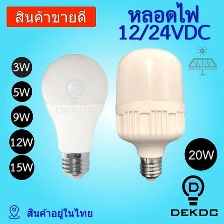light_bulb: (110, 44, 188, 182), (36, 51, 110, 184)
